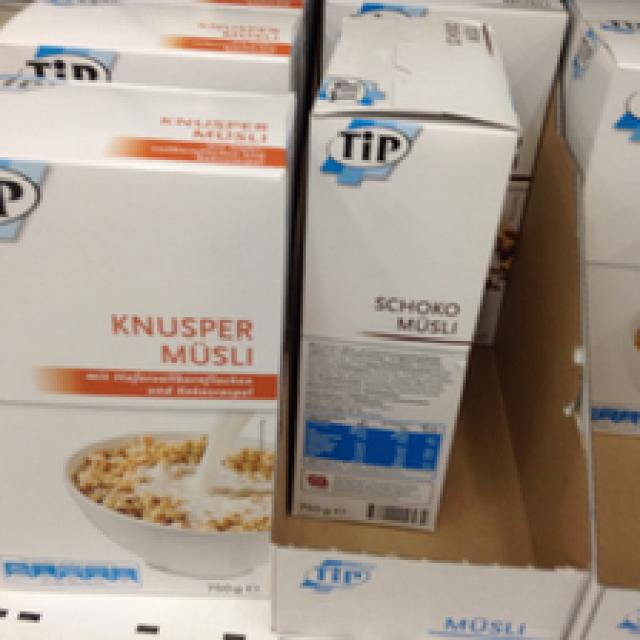groceries: (0, 85, 294, 605), (306, 11, 517, 532)
